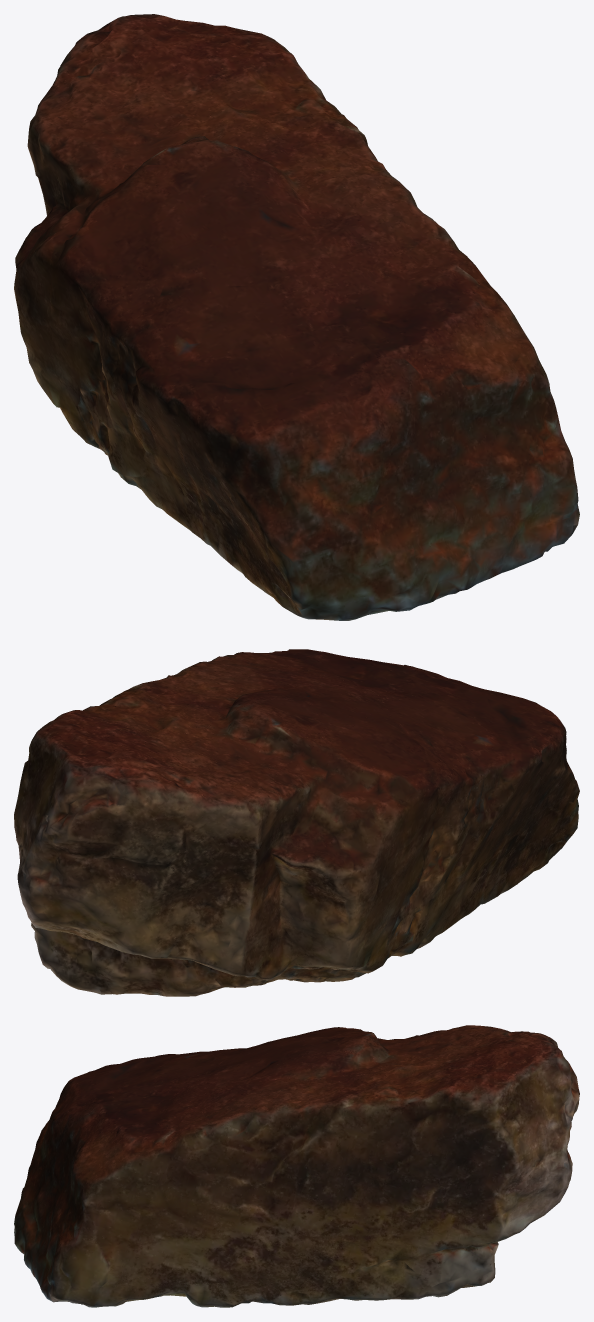
File: prop_rock.glb
3 renders of one model, top to bottom at view 1: azimuth 30°, elevation 25°; view 2: azimuth 150°, elevation 25°; view 3: azimuth 270°, elevation 25°, orthographic. The views are drawn at different scales.
Parts seen in each view (by area): view 1: rock_07; view 2: rock_07; view 3: rock_07.
Part boxes in pixels (bbox=[...]): rock_07: bbox=[14, 14, 579, 620]; rock_07: bbox=[14, 649, 579, 996]; rock_07: bbox=[14, 1025, 579, 1307].
Bounding box in the file's own units: 0.1689 × 0.1437 × 0.3203.
1 material, 1 textured.
